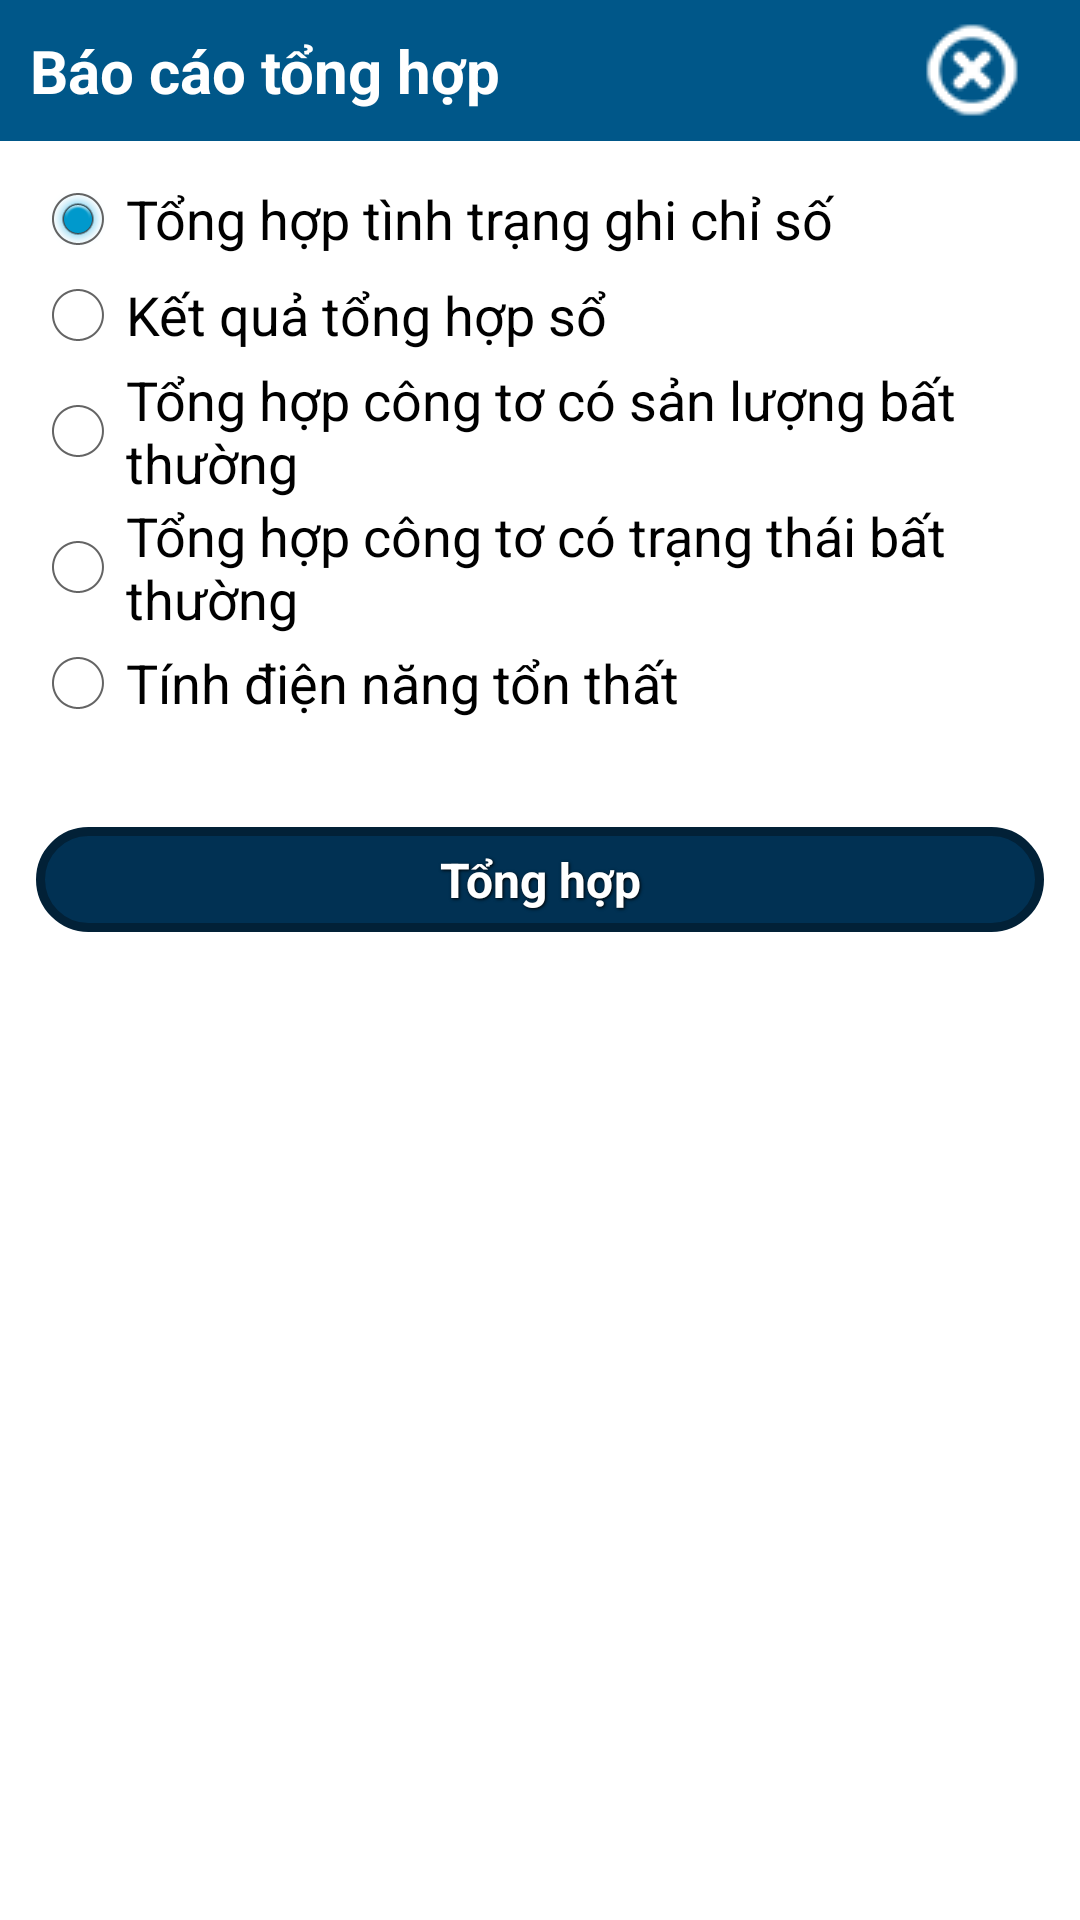

Where icons sit on this 1080 × 1920 app screen, as box(x1, y1, x2, y2):
gcs close: box(926, 24, 1018, 116)
